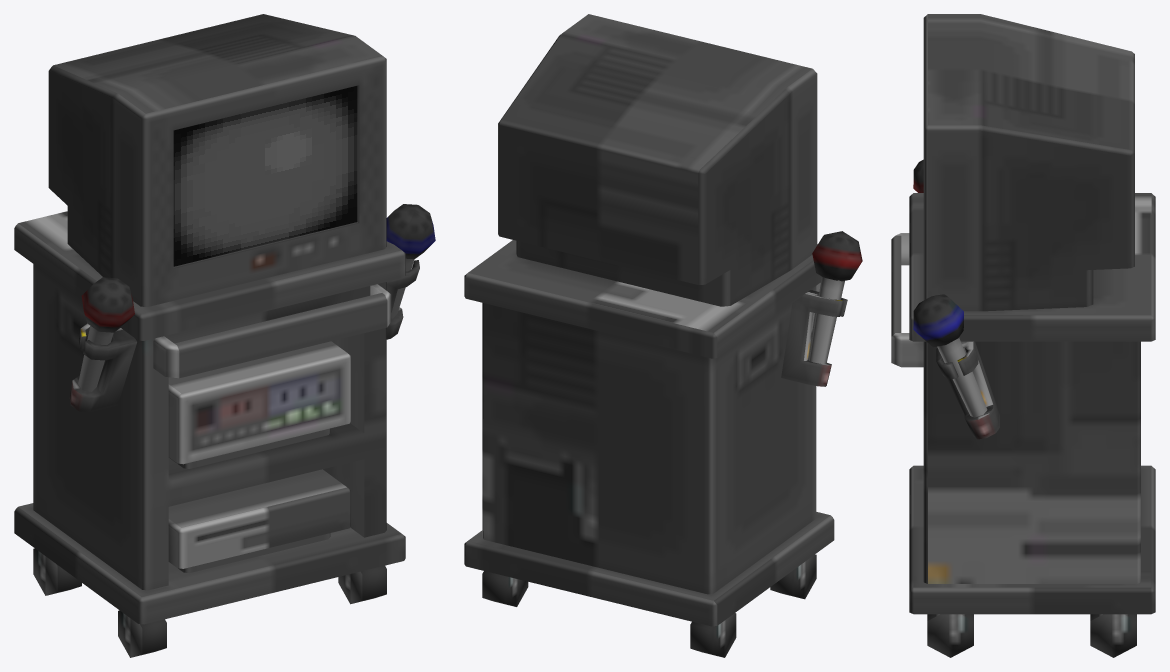
Rendered from int_oth_karaoke.dae.
3 views of the same model, side by side, from view 1: azimuth 30°, elevation 25°; view 2: azimuth 150°, elevation 25°; view 3: azimuth 270°, elevation 25° (orthographic). The views are drawn at different scales.
Parts seen in each view (by area): view 1: int_oth_karaoke; view 2: int_oth_karaoke; view 3: int_oth_karaoke.
Part boxes in pixels (left/top/right/bottom): int_oth_karaoke: left=14, top=14, right=435, bottom=657; int_oth_karaoke: left=464, top=14, right=862, bottom=657; int_oth_karaoke: left=891, top=14, right=1155, bottom=657.
Size of the model in its own units: 31.52 by 47.52 by 21.43.
Materials: 2 (2 with a texture image).
